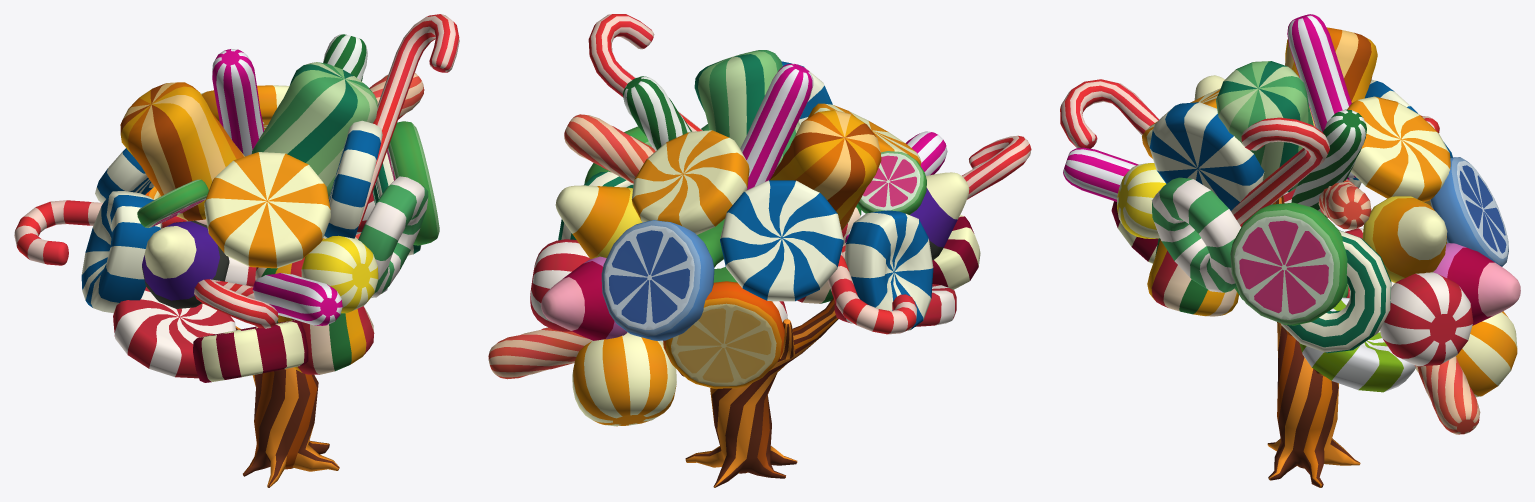
File: cw_tree_25.fbx
3 renders of one model, left to right at view 1: azimuth 30°, elevation 25°; view 2: azimuth 150°, elevation 25°; view 3: azimuth 270°, elevation 25°, orthographic. The views are drawn at different scales.
Visible parts, largest first — view 1: cw_t_25; view 2: cw_t_25; view 3: cw_t_25.
Part boxes in pixels (<box>): cw_t_25: <box>14,14,459,487</box>; cw_t_25: <box>488,14,1031,487</box>; cw_t_25: <box>1060,14,1520,487</box>.
Bounding box in the file's own units: 213 × 218 × 215.
